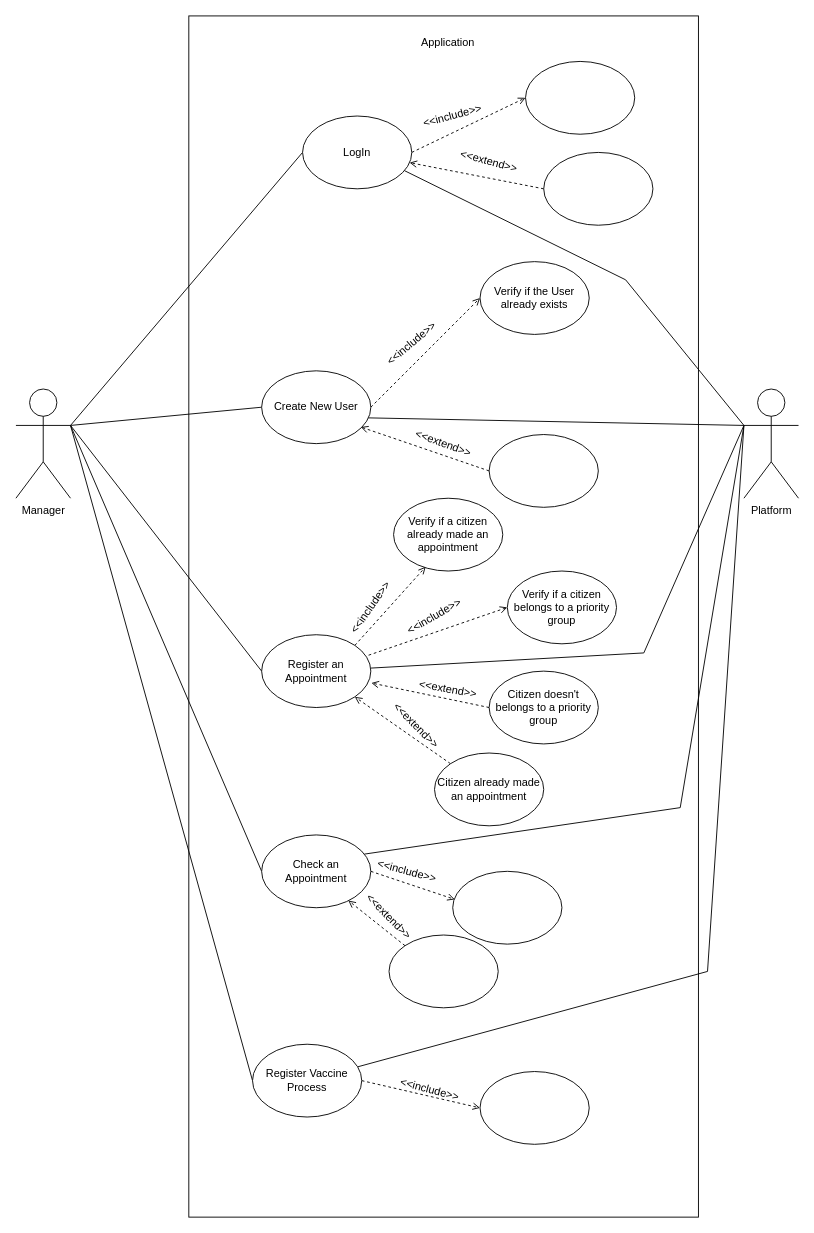
Image size: 814x1233. Some labels were removed from this diagram. Each missing label, with the centre of its shape:
"Display Login Error" belongs at (598,188).
"The citizen already made an appointment" belongs at (443,971).
"The platform gives a date for the second dose" belongs at (534,1107).
"User already exists" belongs at (543,470).
"Verify if the citizen made an appointment" belongs at (507,907).
"Verify password" belongs at (580,97).
